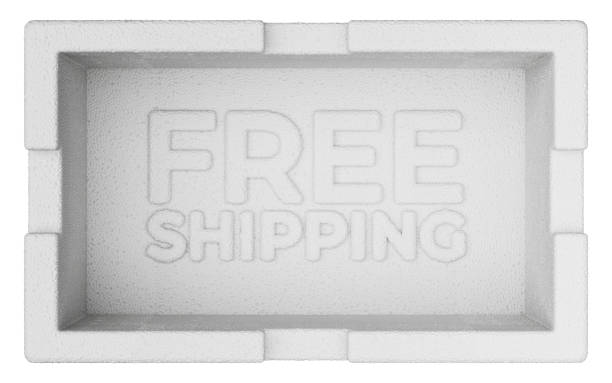泡沫箱: (23, 20, 589, 366)
